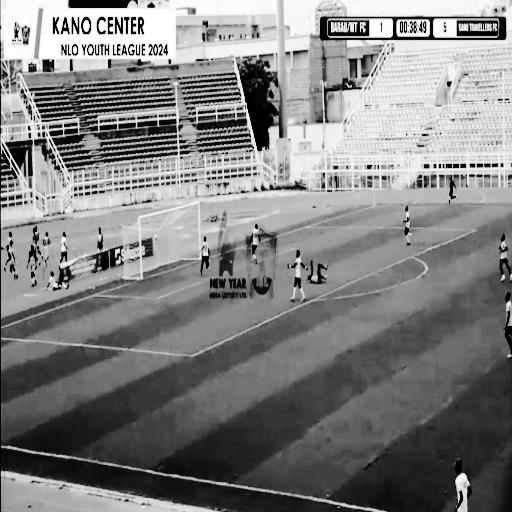ball: (152, 230, 158, 243)
distract: (441, 452, 476, 512)
keeper2: (305, 255, 330, 291)
referee: (443, 173, 461, 208)
team1: (285, 243, 312, 308), (398, 203, 416, 249), (250, 222, 264, 266)
team2: (493, 226, 512, 286), (198, 232, 221, 280), (500, 290, 511, 374)
